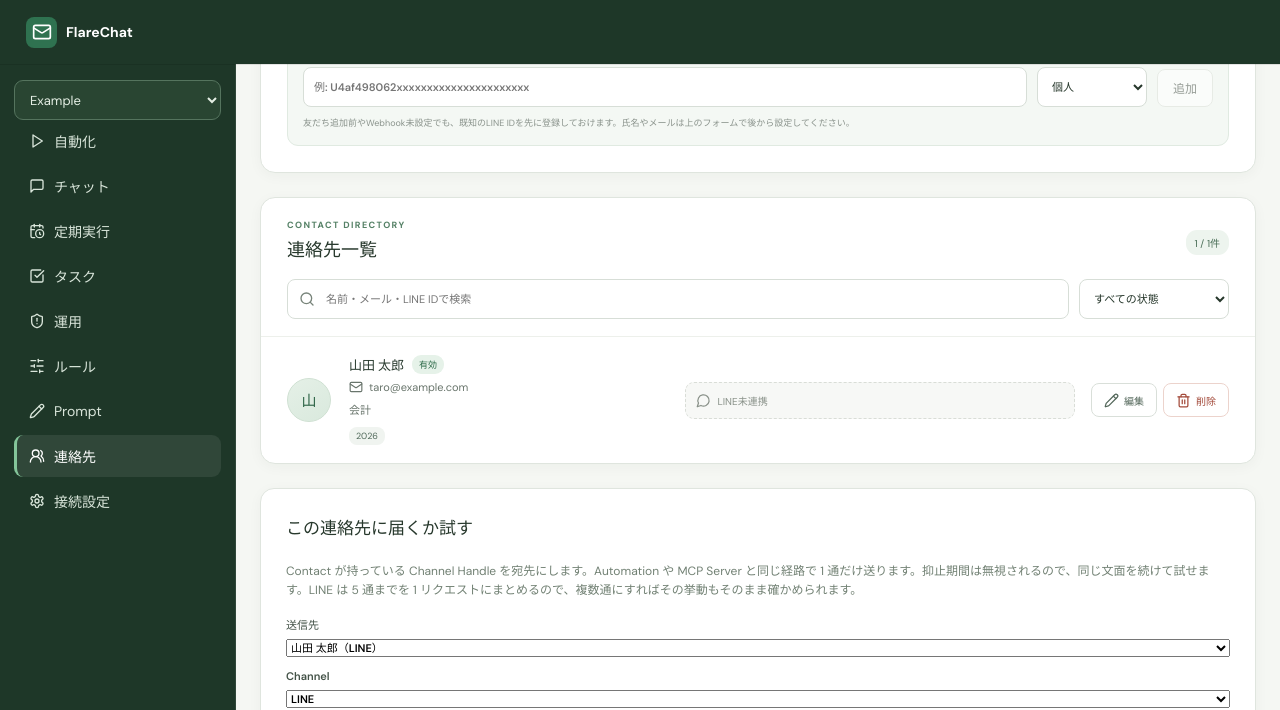
Contacts screen › removes a Contact only after the Account confirms, and re-reads the roster
(page scrolled)
Step 1. Click the button with aria-label "山田 太郎を削除" → (1196, 400), box left=1163, top=383, right=1229, bottom=417
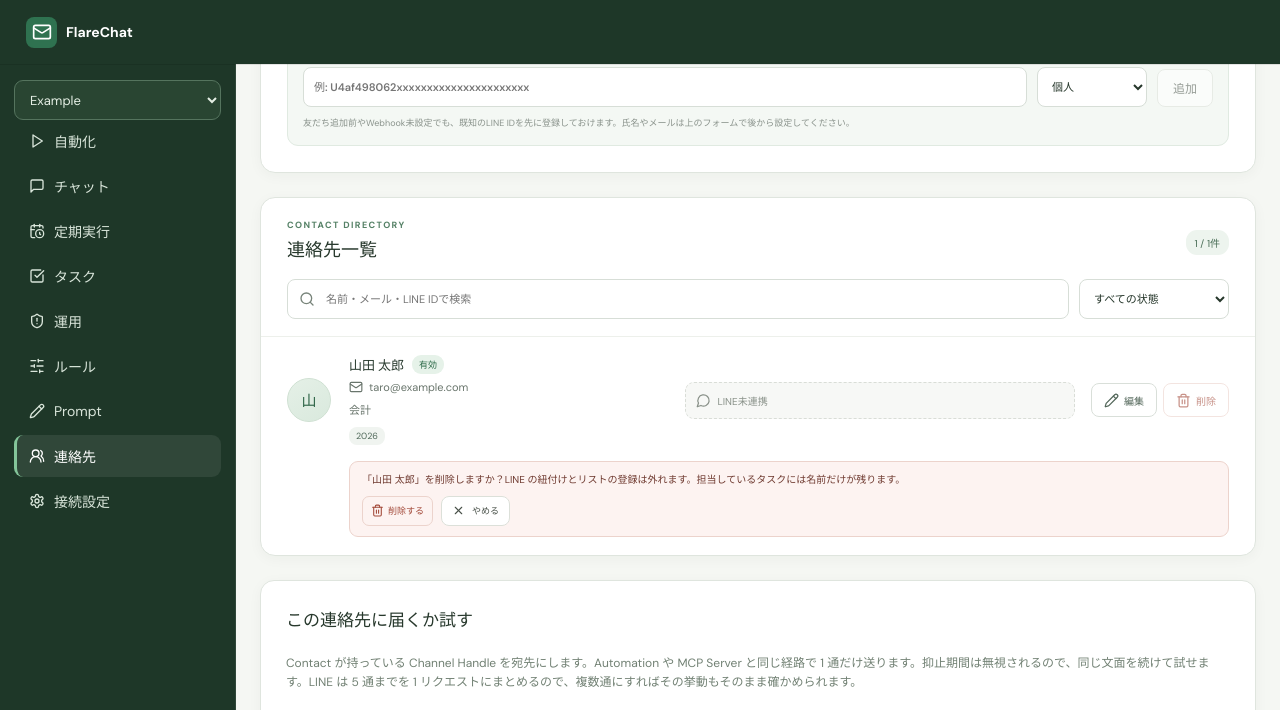
Now the text "「山田 太郎」を削除しますか？LINE の紐付けとリストの登録は外れます。担当しているタスクには名前だけが残ります。" is shown, box left=362, top=473, right=905, bottom=486
Step 2. Click the button "削除する" → (398, 511), box left=362, top=496, right=433, bottom=526
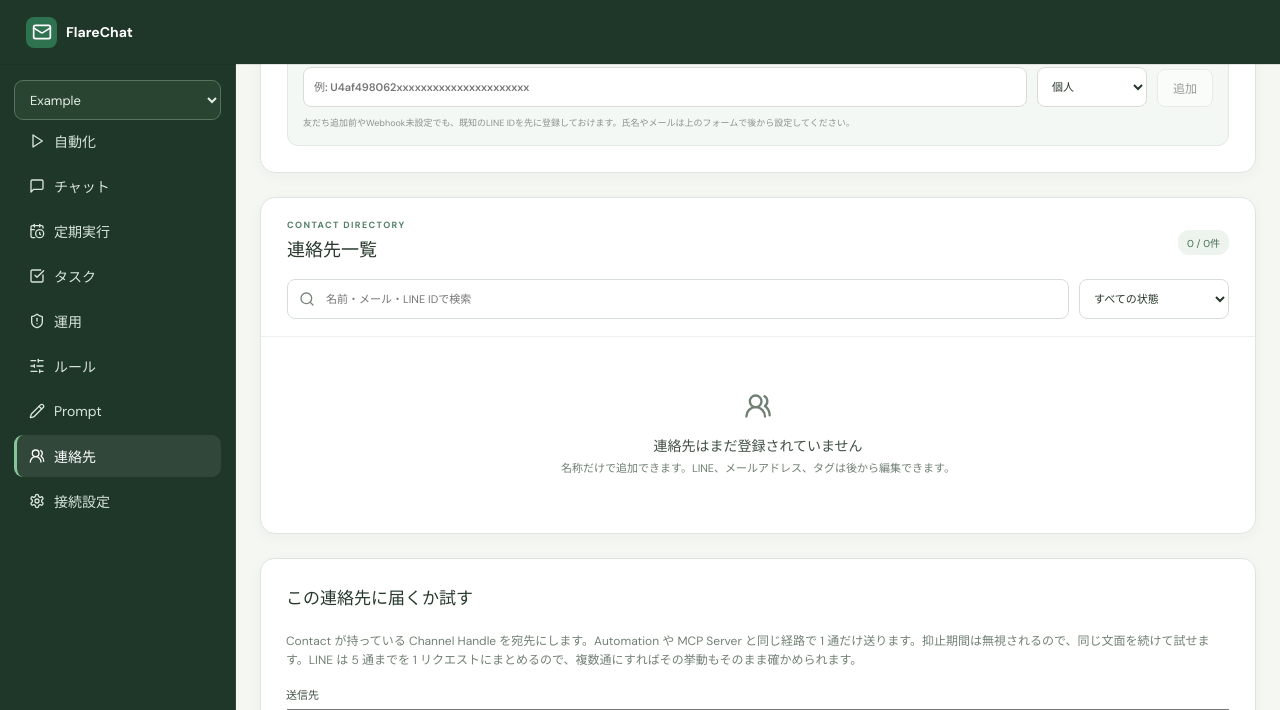
Now the heading "連絡先はまだ登録されていません" is shown, box left=653, top=437, right=863, bottom=455
